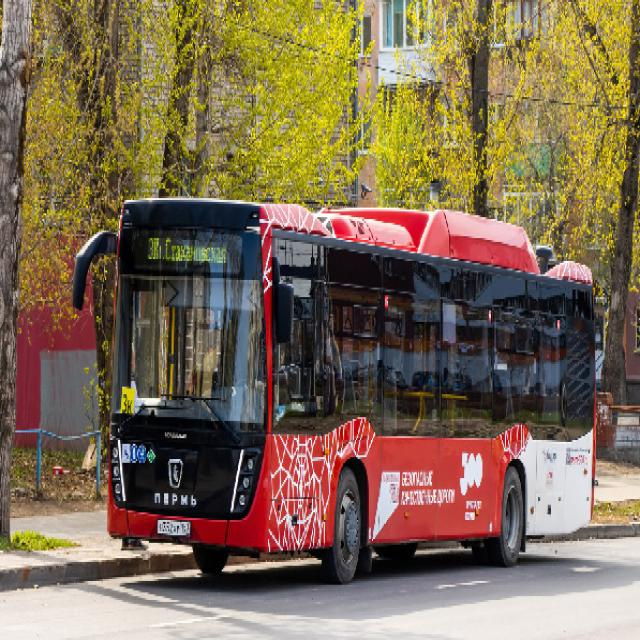non emergency car: (75, 196, 600, 583)
